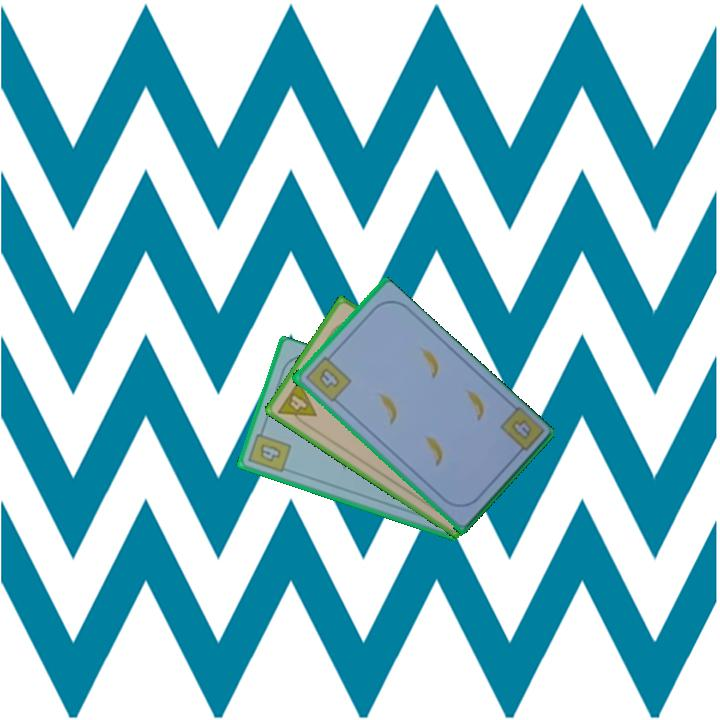4b: (495, 404, 546, 461), (301, 350, 354, 404), (245, 424, 294, 476)
4p: (274, 376, 319, 430)
